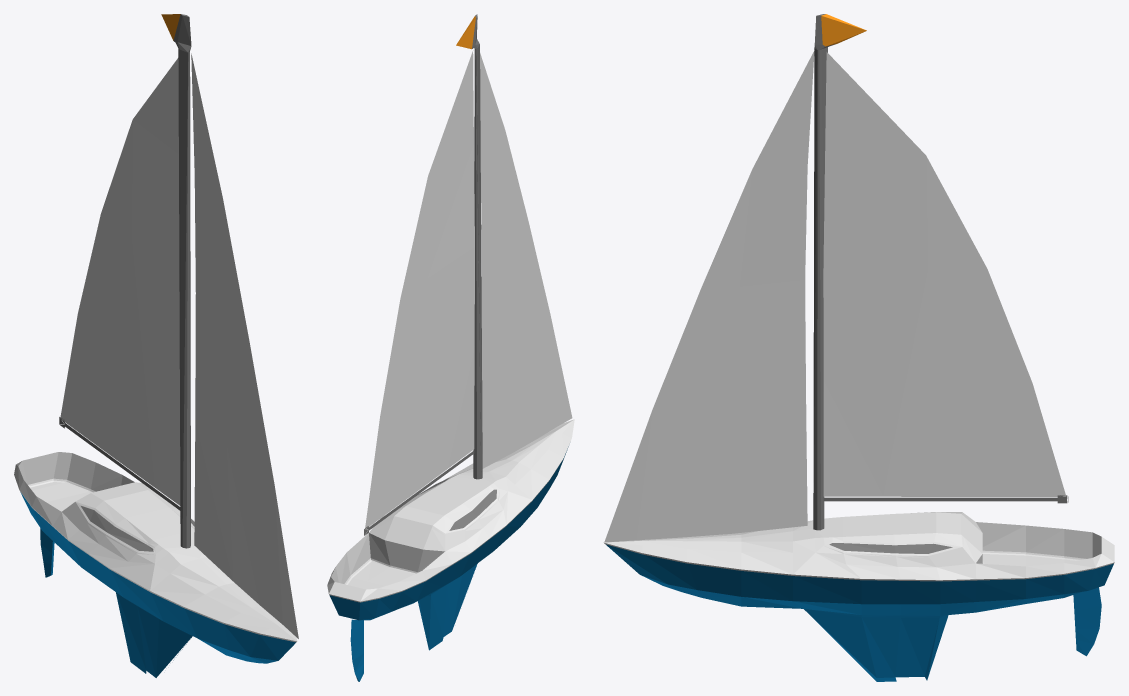
The model's file is yacht.glb.
3 renders of one model, left to right at view 1: azimuth 30°, elevation 25°; view 2: azimuth 150°, elevation 25°; view 3: azimuth 270°, elevation 25°, orthographic. The views are drawn at different scales.
Parts seen in each view (by area): view 1: Sailboat, Mainsail, Jib, Rudder; view 2: Mainsail, Sailboat, Jib, Rudder; view 3: Mainsail, Jib, Sailboat, Rudder.
Boxes of the visible parts, x1=… form: Sailboat: x1=14, y1=14, x2=297, y2=677; Mainsail: x1=59, y1=58, x2=180, y2=510; Jib: x1=191, y1=53, x2=298, y2=638; Rudder: x1=40, y1=528, x2=54, y2=577; Mainsail: x1=364, y1=50, x2=474, y2=535; Sailboat: x1=327, y1=14, x2=574, y2=650; Jib: x1=480, y1=53, x2=572, y2=468; Rudder: x1=350, y1=619, x2=363, y2=681; Mainsail: x1=823, y1=52, x2=1068, y2=503; Jib: x1=604, y1=51, x2=814, y2=542; Sailboat: x1=603, y1=14, x2=1114, y2=681; Rudder: x1=1073, y1=587, x2=1101, y2=656.
Bounding box in the file's own units: 7.78 × 45.77 × 31.8.
Materials: 1 (1 with a texture image).
